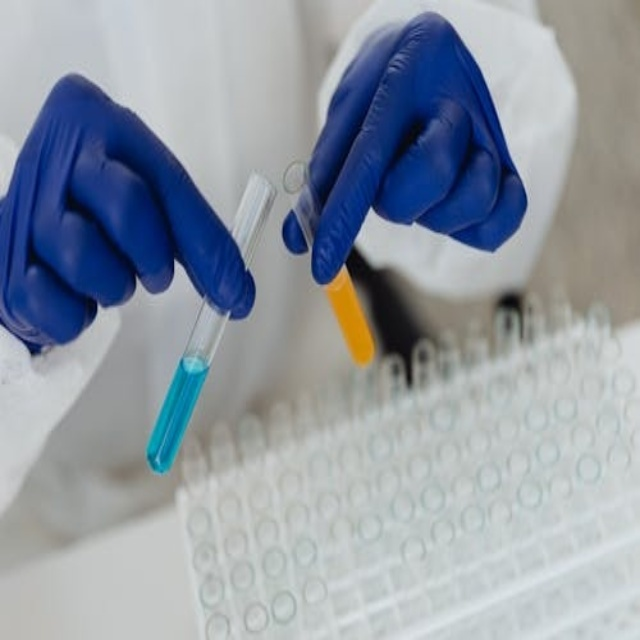Guantes: (0, 74, 257, 360), (280, 9, 529, 293)
